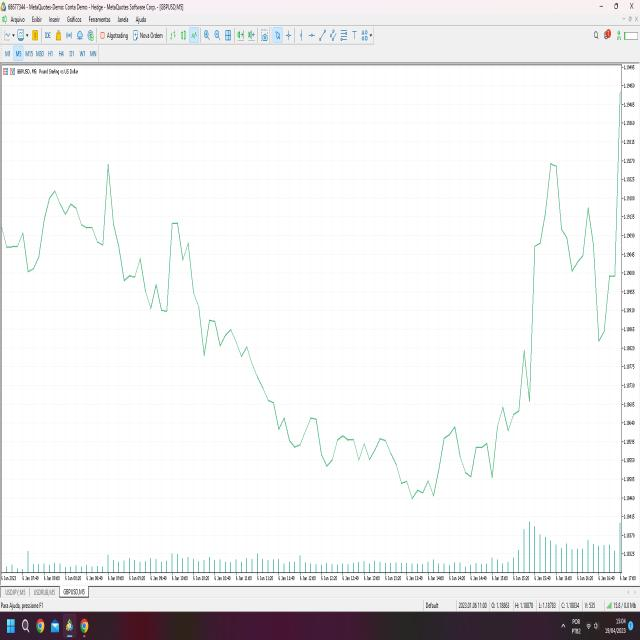topo_duplo: (526, 136, 602, 428)
